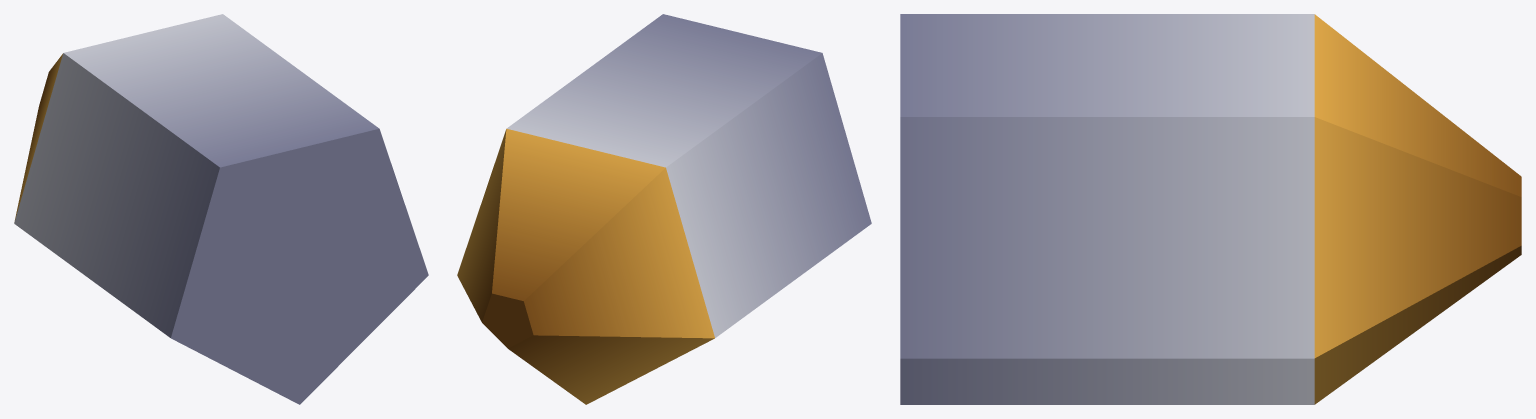
File: RocketModel.fbx
The picture shows the model from 3 angles, left to right: view 1: azimuth 30°, elevation 25°; view 2: azimuth 150°, elevation 25°; view 3: azimuth 270°, elevation 25°; orthographic projection. The views are drawn at different scales.
Parts seen in each view (by area): view 1: Cylinder; view 2: Cylinder; view 3: Cylinder.
Boxes of the visible parts, x1,y1,x2,y2 form: Cylinder: (14,14,428,404); Cylinder: (457,14,871,404); Cylinder: (900,14,1521,404).
Bounding box in the file's own units: 19.02 × 18.09 × 30.
